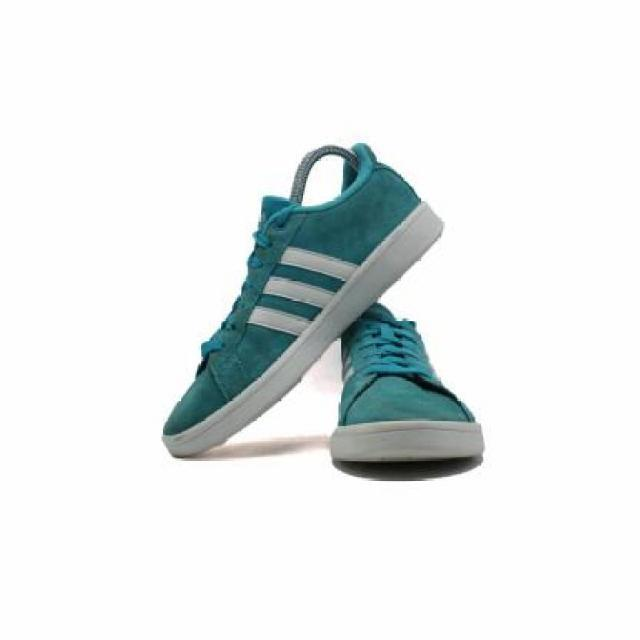Adidas: (245, 239, 364, 344)
